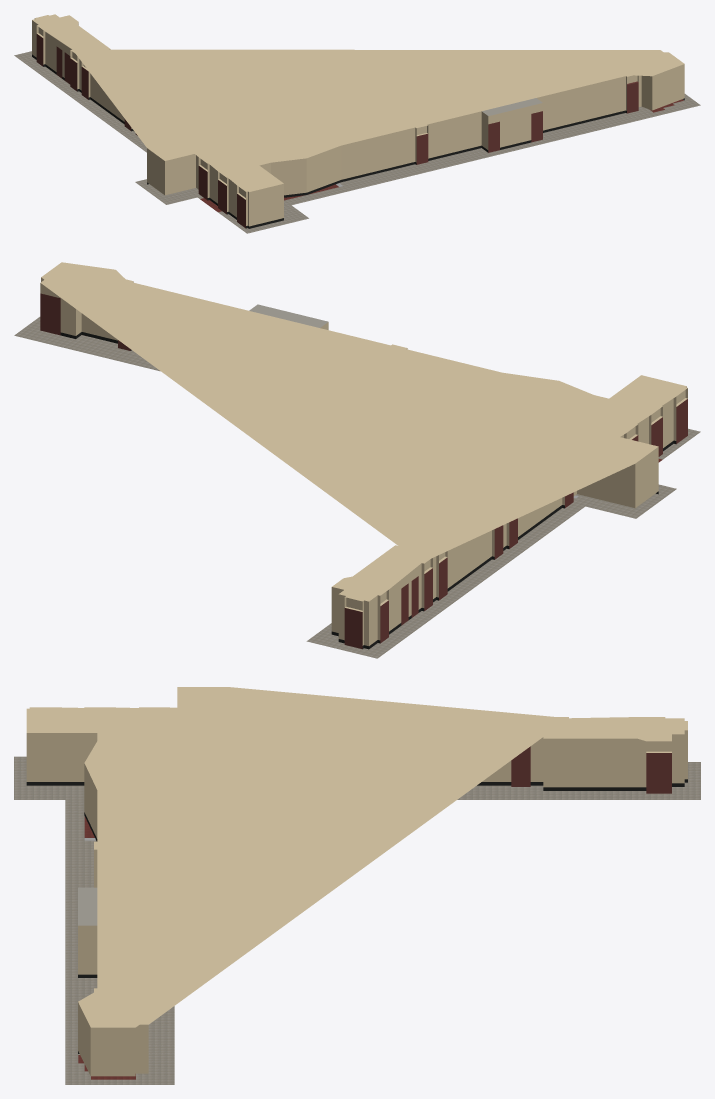
Rendered from IRGLM_4th_floor.fbx.
3 renders of one model, top to bottom at view 1: azimuth 30°, elevation 25°; view 2: azimuth 150°, elevation 25°; view 3: azimuth 270°, elevation 25°, orthographic. The views are drawn at different scales.
Parts seen in each view (by area): view 1: Vert; view 2: Vert; view 3: Vert.
Boxes of the visible parts, <box> form: Vert: <box>14,14,700,233</box>; Vert: <box>14,262,700,658</box>; Vert: <box>14,687,700,1084</box>.
Bounding box in the file's own units: 3932 × 274 × 3261.
8 materials, 3 textured.
